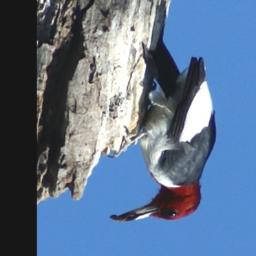Woodpecker: (111, 0, 218, 224)
